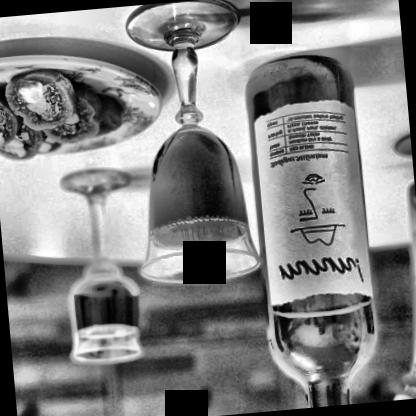umm: (256, 96, 372, 308)
